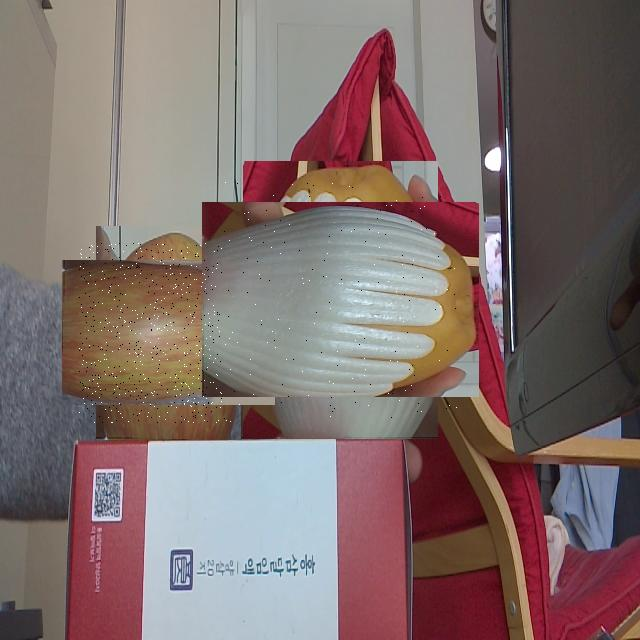apple: (79, 243, 258, 423)
pear: (222, 182, 459, 418)
